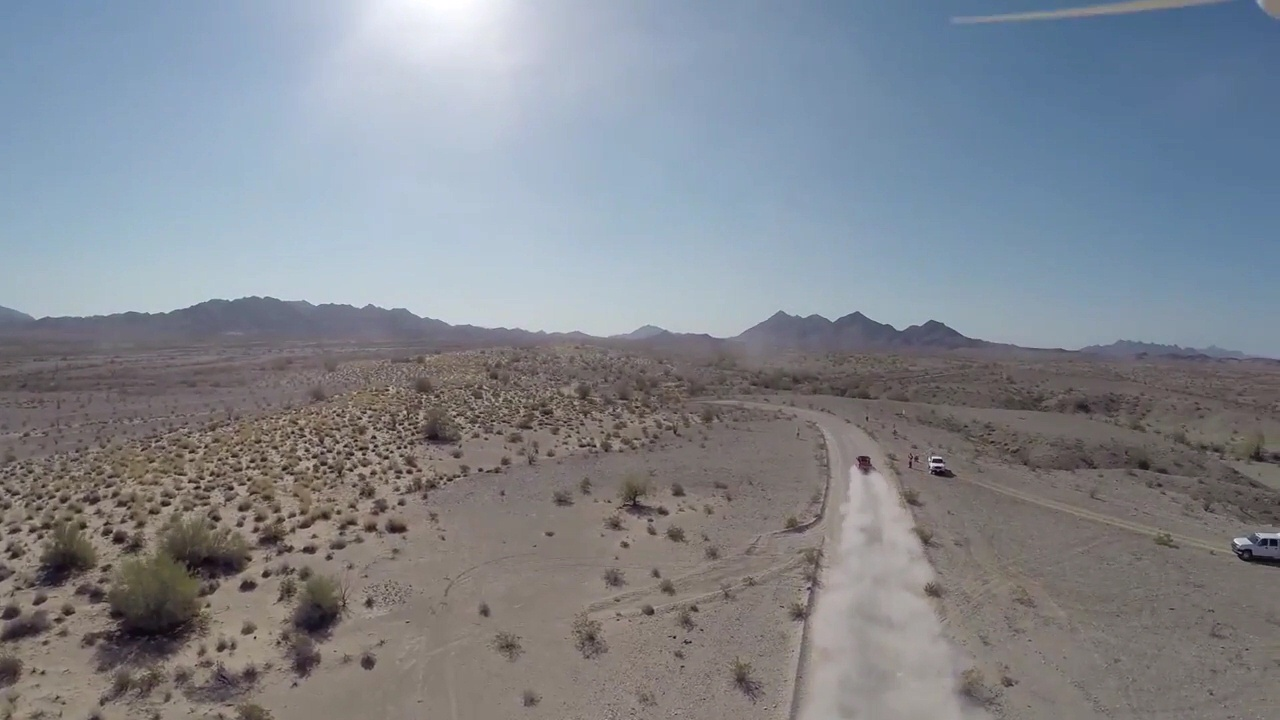araba: (854, 453, 876, 476), (927, 453, 947, 473)
insan: (1231, 530, 1280, 560)
